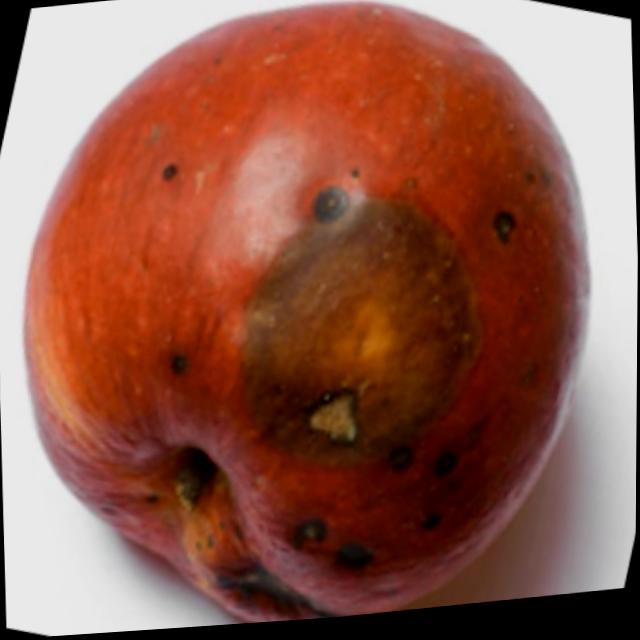organik: (7, 0, 604, 639)
